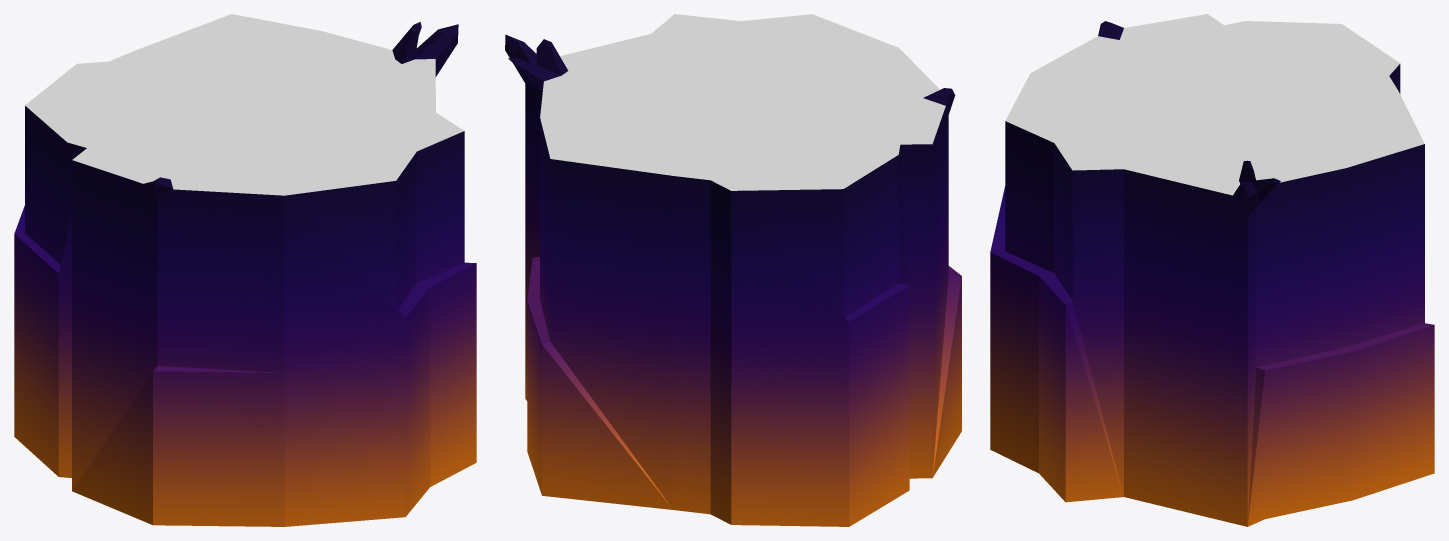
File: MOD_Platform_Hoog.fbx
The picture shows the model from 3 angles, left to right: view 1: azimuth 30°, elevation 25°; view 2: azimuth 150°, elevation 25°; view 3: azimuth 270°, elevation 25°; orthographic projection.
Visible parts, largest first — view 1: MOD_Platform_Hoog; view 2: MOD_Platform_Hoog; view 3: MOD_Platform_Hoog.
Part boxes in pixels (box(x1,y1,x2,y2)): MOD_Platform_Hoog: box(14, 14, 476, 526); MOD_Platform_Hoog: box(505, 14, 961, 526); MOD_Platform_Hoog: box(990, 14, 1434, 526).
Bounding box in the file's own units: 7.34 × 6.25 × 7.05.
